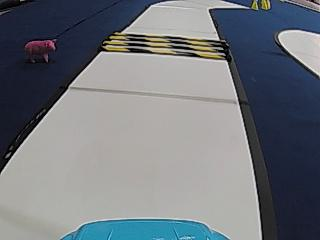bump: (100, 29, 231, 64)
